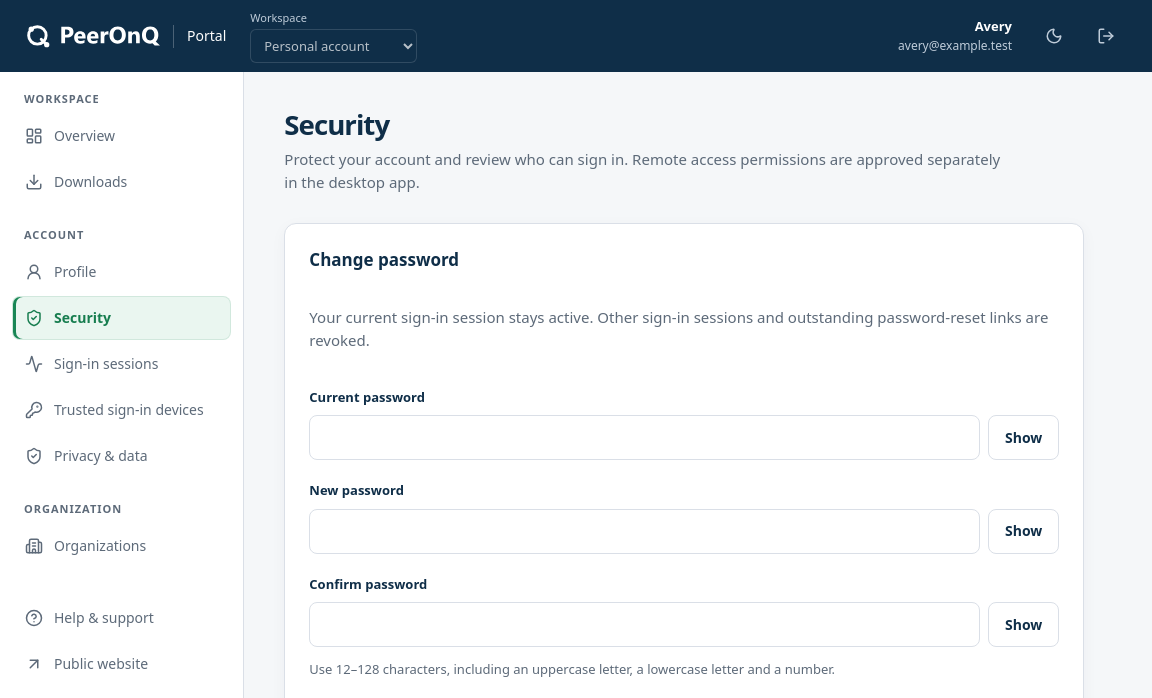
it: customer authentication completion › hides customer MFA setup even for an account with stored MFA and changes its password
Expected: the heading "Change password" is shown, top-left (309, 248), bottom-right (459, 271)
Type "OldPassword-2026" into the password field labelled "Current password" at (645, 438), box top-left (309, 415), bottom-right (980, 460)
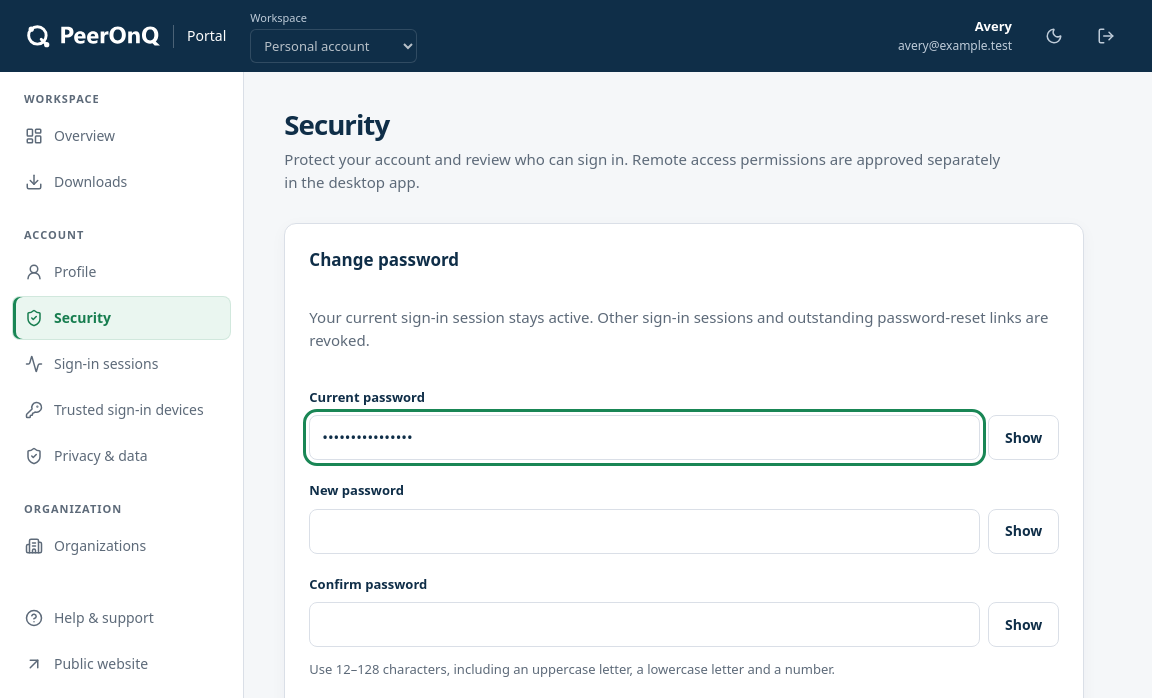
Type "NewPassword-2026" into the password field labelled "New password" at (645, 531), box top-left (309, 509), bottom-right (980, 554)
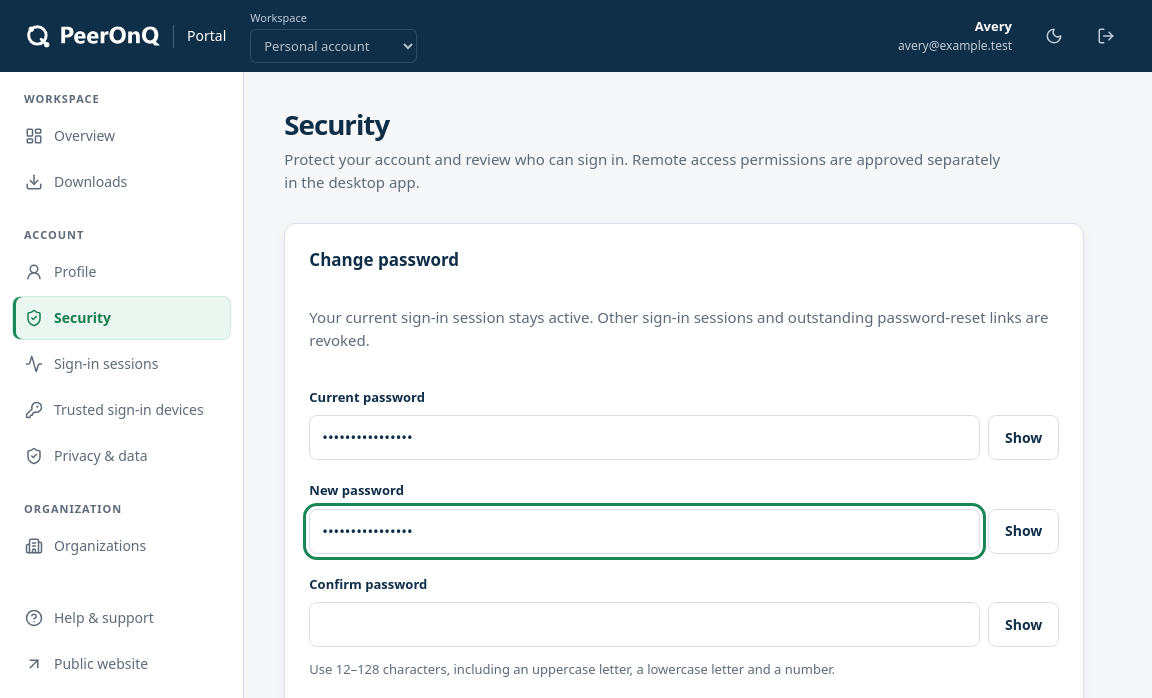
Type "NewPassword-2026" into the password field labelled "Confirm password" at (645, 625), box top-left (309, 602), bottom-right (980, 647)
(page scrolled)
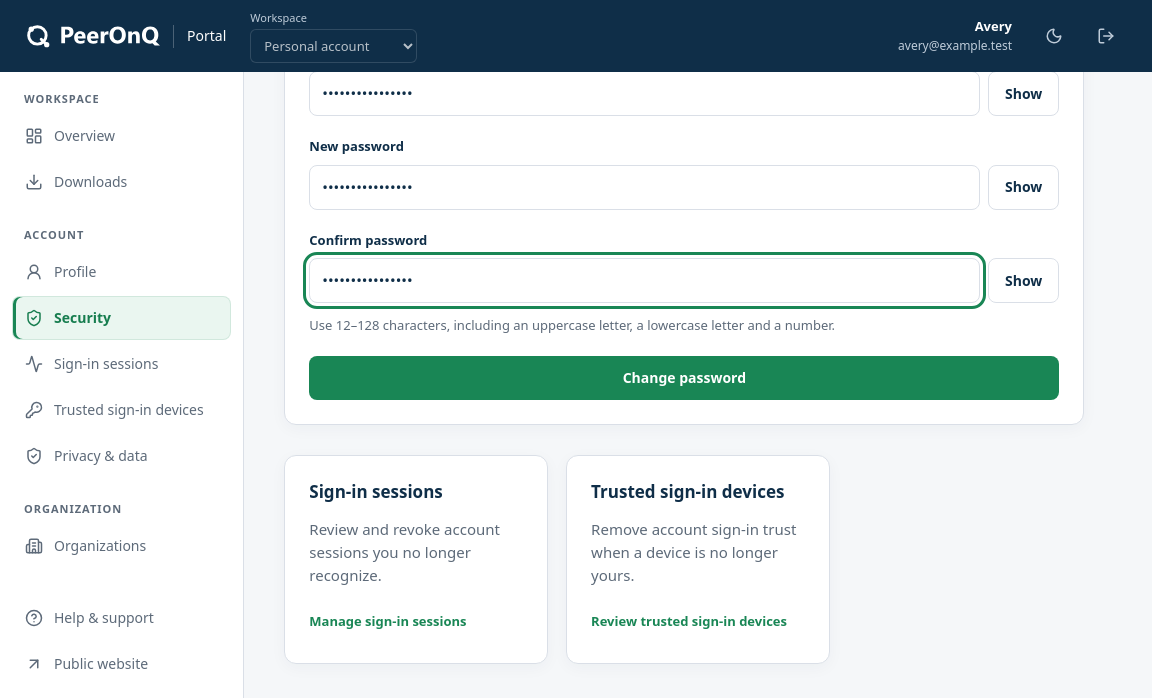
Click the button "Change password" at (684, 378), box top-left (309, 356), bottom-right (1059, 400)
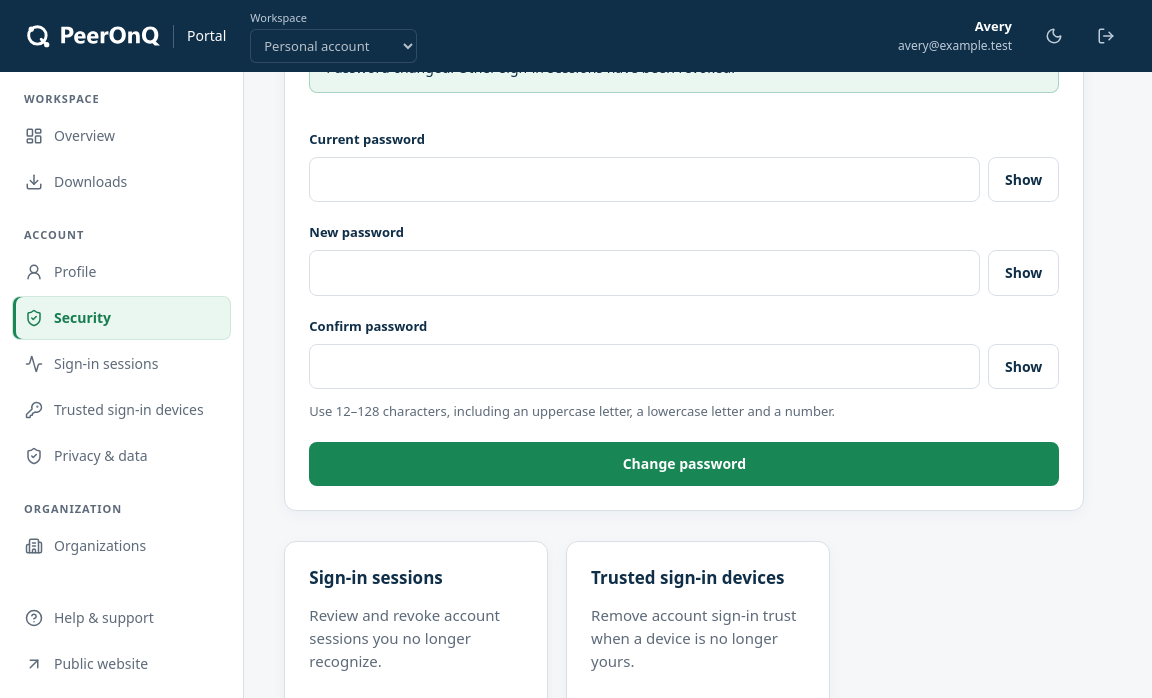
Expected: the text "Password changed. Other sign-in sessions have been revoked." is shown, top-left (309, 43), bottom-right (1059, 93)
Expected: the password field labelled "Current password" is empty, top-left (309, 157), bottom-right (980, 202)
